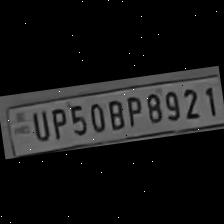0: (85, 97, 108, 132)
1: (199, 82, 219, 117)
2: (176, 83, 202, 119)
5: (64, 100, 88, 136)
8: (140, 88, 165, 124)
9: (160, 86, 181, 122)
B: (103, 95, 127, 131)
P: (121, 92, 145, 128), (46, 104, 68, 140)
U: (27, 107, 50, 142)
